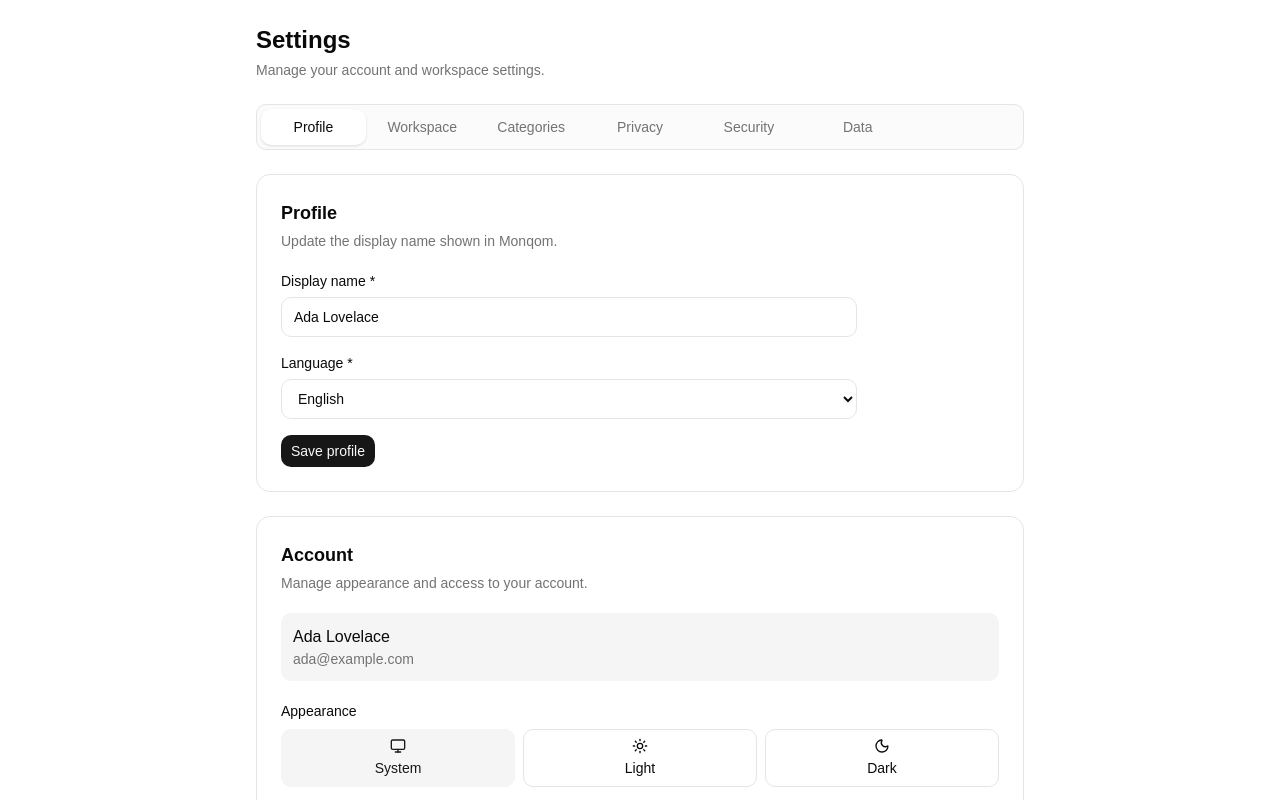
Test: SettingsPage › saves a valid display name and updates auth state
Replace the text in the field labelled "Display name" with " Grace Hopper ": (569, 317) [281,297,857,337]
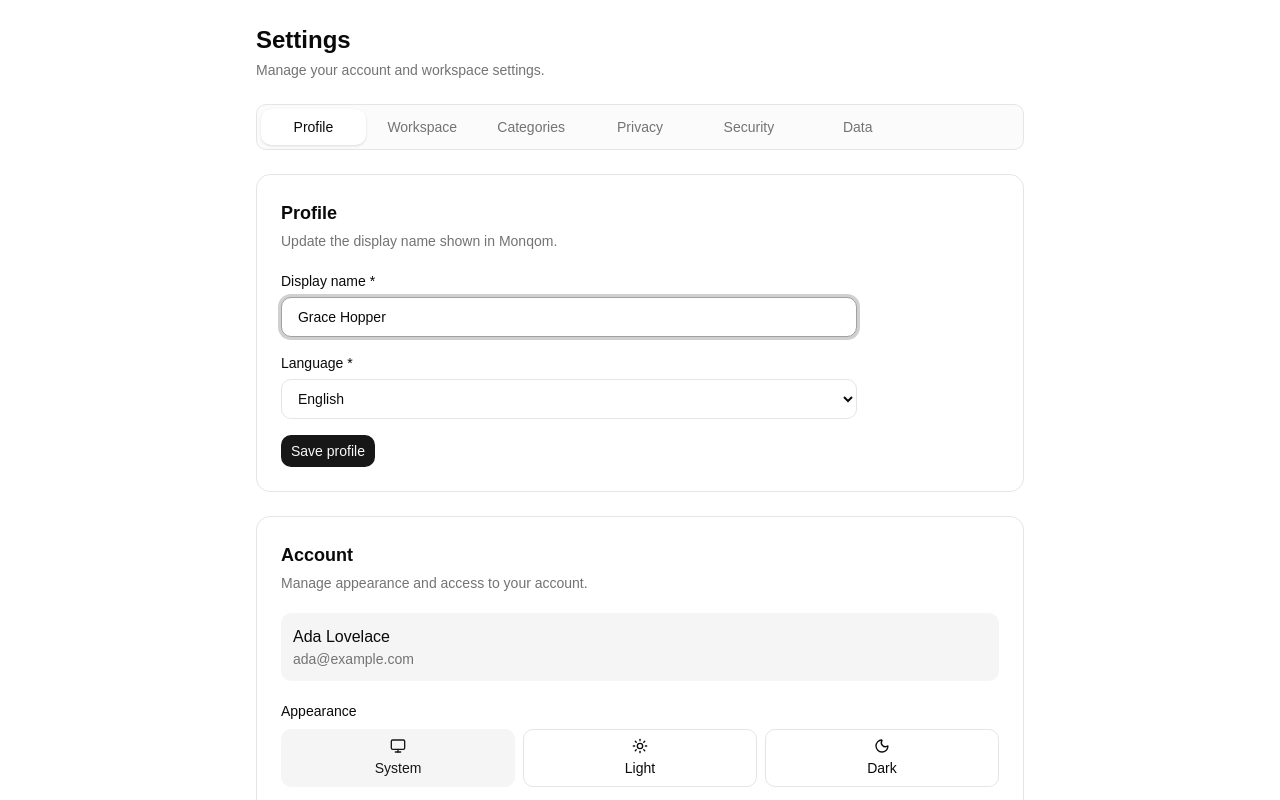
Click the button "Save profile": click(328, 451) [281,435,375,467]
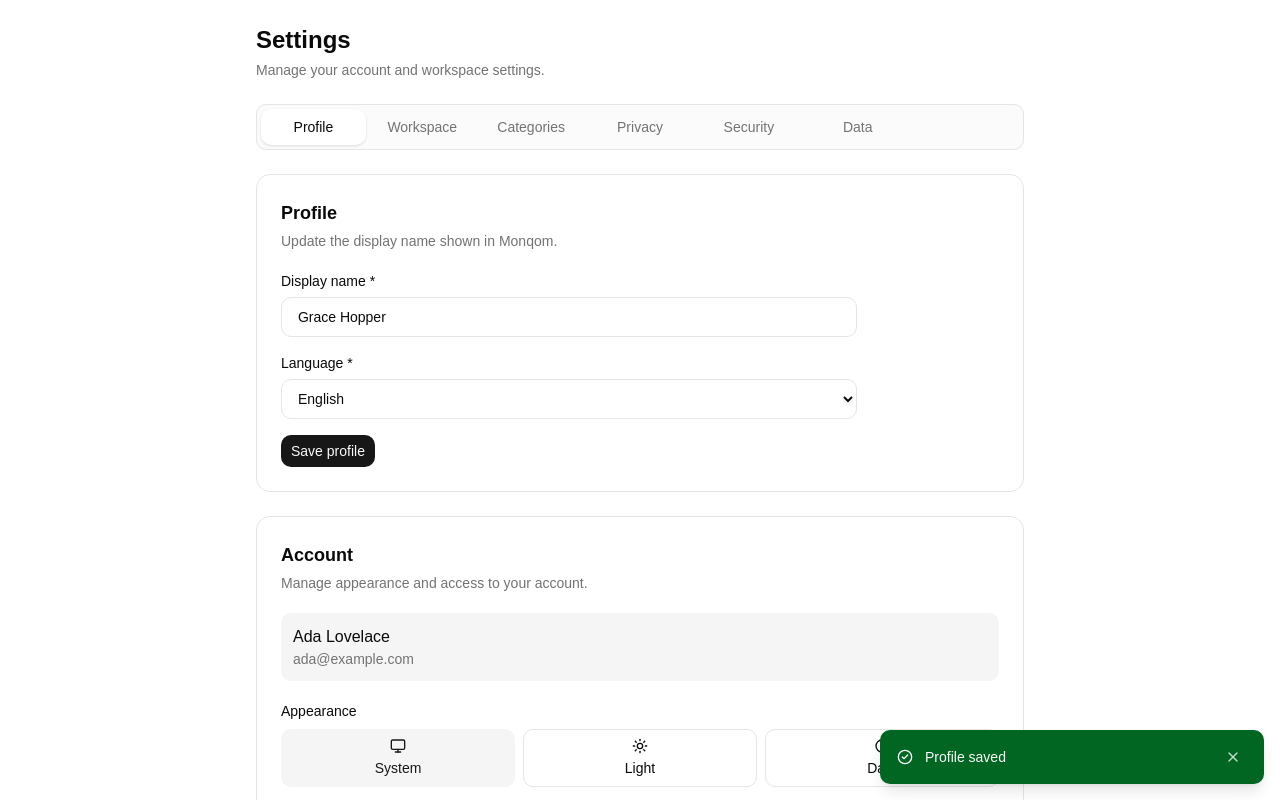
Now the message reads "Profile saved", box [925,749,1006,765]
